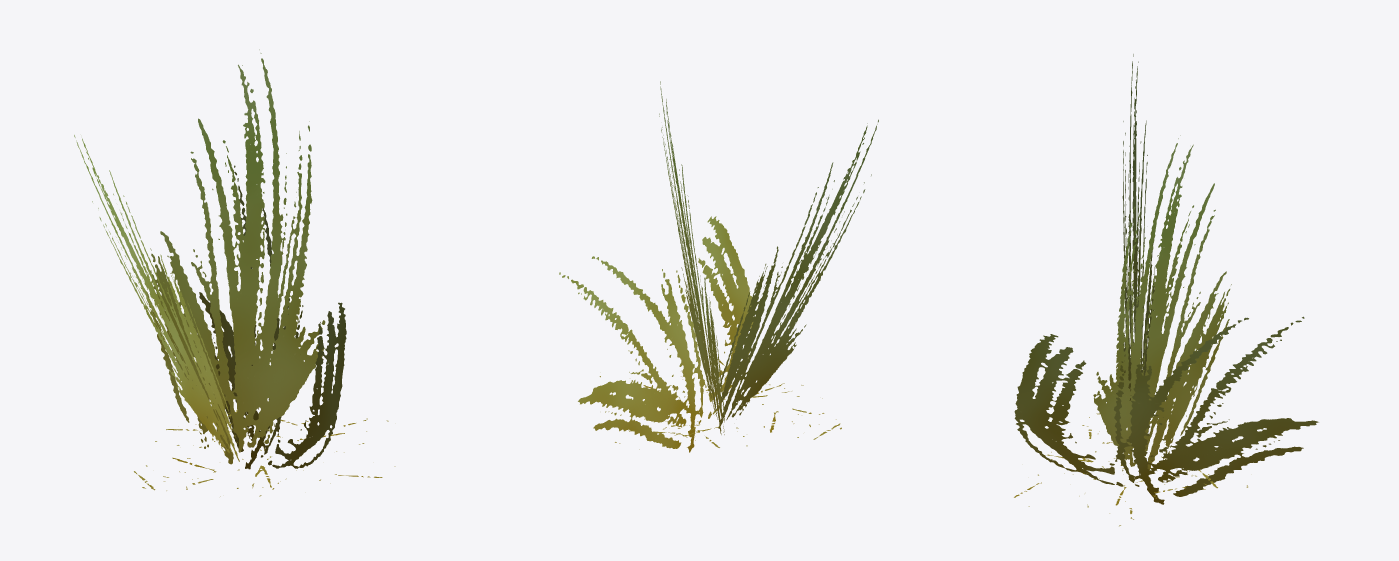
Rendered from grass22.fbx.
3 renders of one model, left to right at view 1: azimuth 30°, elevation 25°; view 2: azimuth 150°, elevation 25°; view 3: azimuth 270°, elevation 25°, orthographic. The views are drawn at different scales.
Parts seen in each view (by area): view 1: grass22_BAKED; view 2: grass22_BAKED; view 3: grass22_BAKED.
Part boxes in pixels (x1=…): grass22_BAKED: x1=74, y1=49, x2=395, y2=496; grass22_BAKED: x1=559, y1=81, x2=878, y2=452; grass22_BAKED: x1=1014, y1=54, x2=1318, y2=526.
Size of the model in its own units: 62.14 by 57.73 by 71.74.
